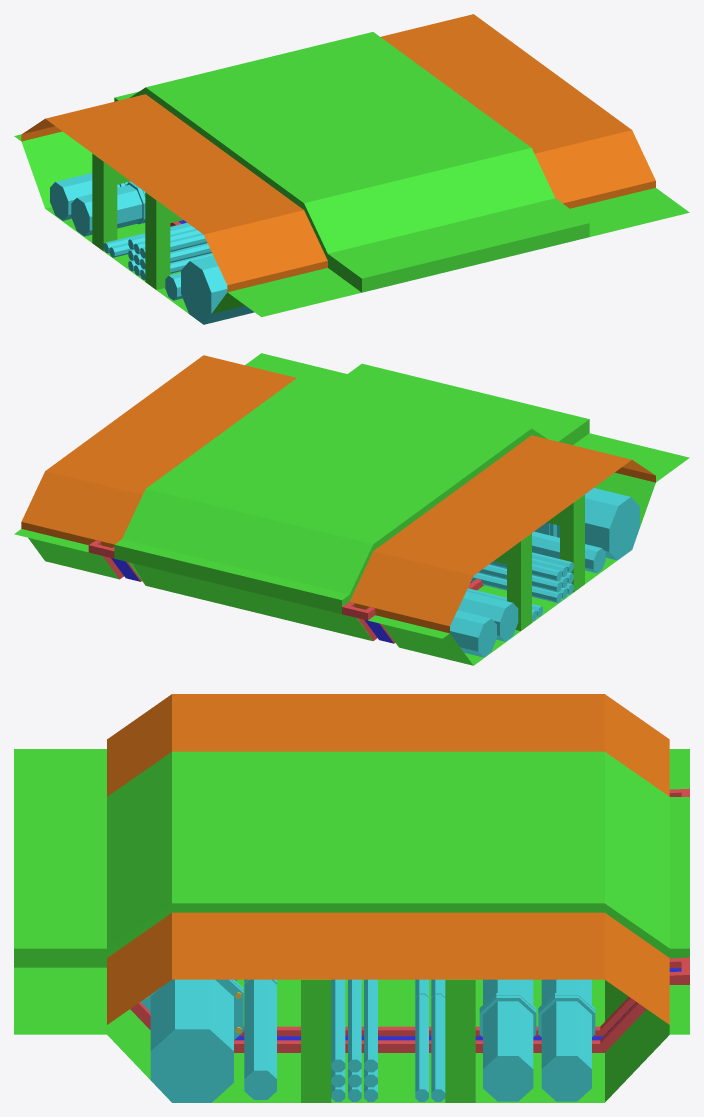
Rendered from Interior_Deco_03_F.fbx.
The picture shows the model from 3 angles, top to bottom: view 1: azimuth 30°, elevation 25°; view 2: azimuth 150°, elevation 25°; view 3: azimuth 270°, elevation 25°; orthographic projection. The views are drawn at different scales.
Parts seen in each view (by area): view 1: Interior_Deco_03_F; view 2: Interior_Deco_03_F; view 3: Interior_Deco_03_F.
Part boxes in pixels (left/top/right/bottom): Interior_Deco_03_F: left=14, top=14, right=689, bottom=324; Interior_Deco_03_F: left=14, top=353, right=689, bottom=665; Interior_Deco_03_F: left=14, top=694, right=689, bottom=1102.
Size of the model in its own units: 457 by 98.92 by 457.
